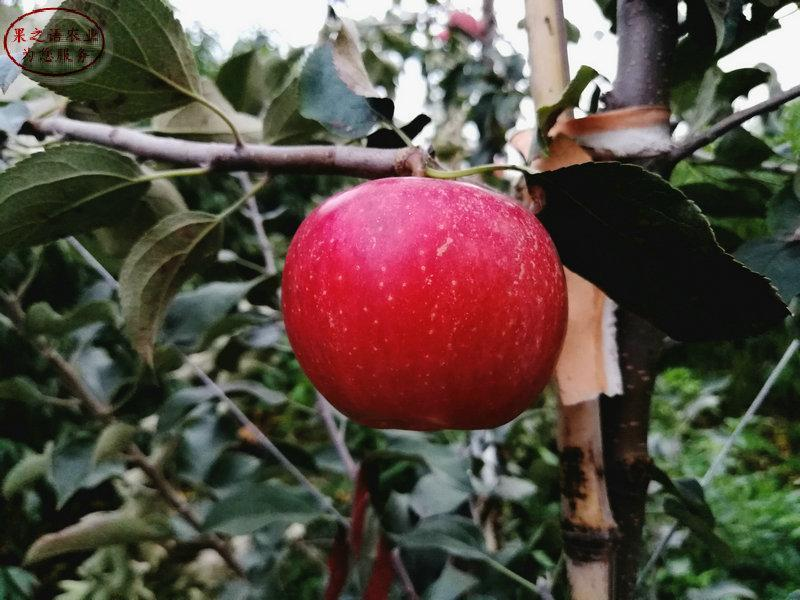apple: (276, 181, 564, 441)
